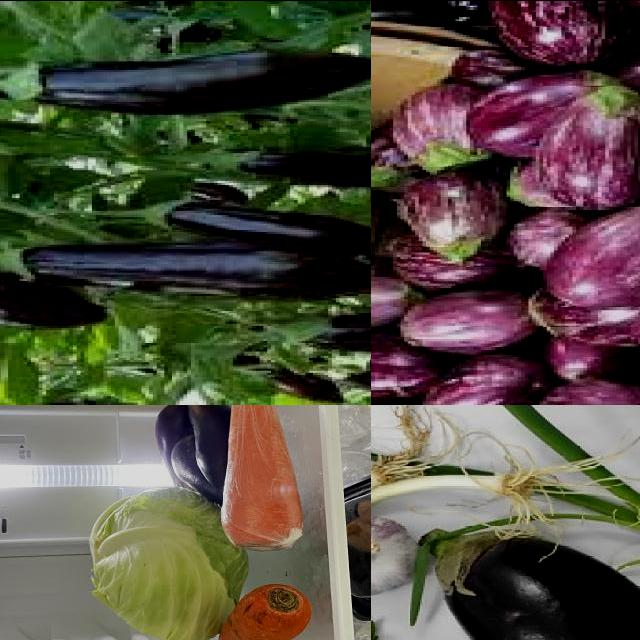cabbage: (86, 489, 247, 640)
carrot: (219, 405, 305, 548), (215, 586, 311, 640)
eggplant: (439, 527, 640, 640), (5, 53, 372, 113), (5, 245, 372, 294), (529, 93, 640, 213), (540, 202, 640, 313), (489, 1, 624, 68), (398, 177, 508, 259), (387, 81, 485, 172), (402, 291, 530, 355), (1, 263, 107, 329), (207, 152, 372, 192), (416, 355, 544, 405), (275, 309, 372, 360), (372, 335, 434, 404), (188, 405, 240, 487), (172, 437, 222, 503), (153, 405, 200, 473), (372, 277, 416, 337)
garlic: (372, 514, 415, 596)
